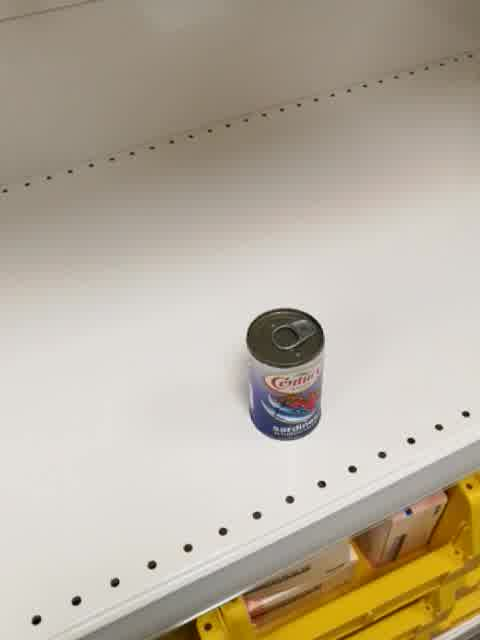sardine: (246, 308, 324, 441)
